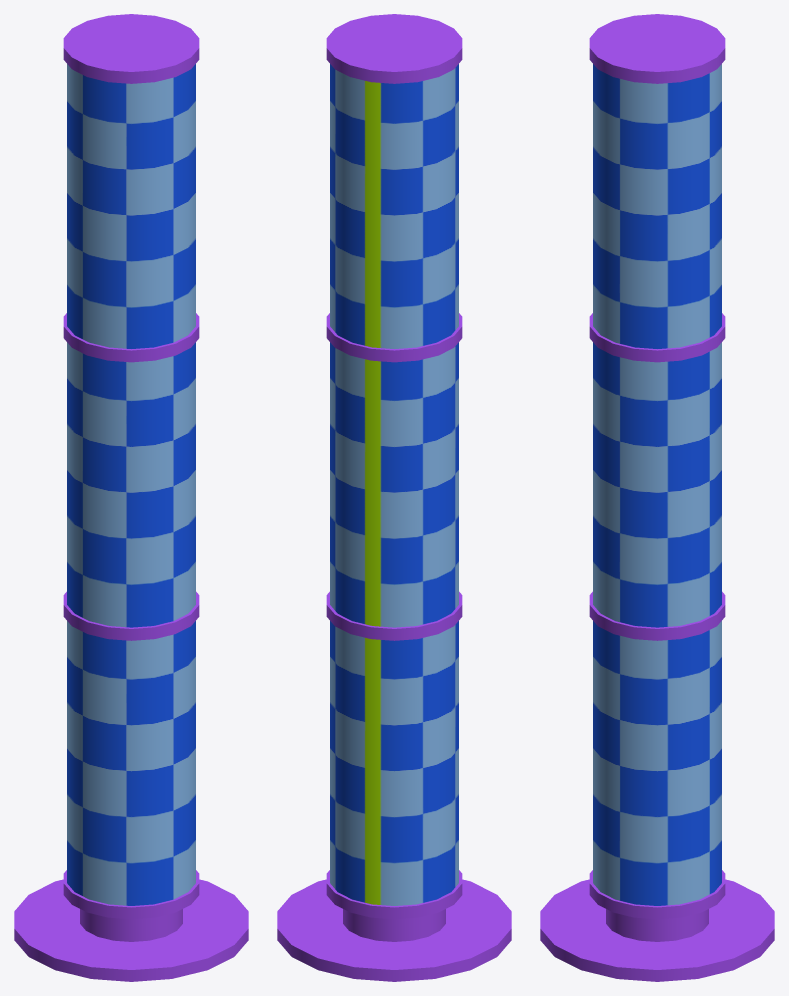
File: LightFloor01_1.FBX
The picture shows the model from 3 angles, left to right: view 1: azimuth 30°, elevation 25°; view 2: azimuth 150°, elevation 25°; view 3: azimuth 270°, elevation 25°; orthographic projection.
Parts seen in each view (by area): view 1: LightFloor01_1; view 2: LightFloor01_1; view 3: LightFloor01_1.
Part boxes in pixels (<box>): LightFloor01_1: <box>14,14,248,981</box>; LightFloor01_1: <box>277,14,511,981</box>; LightFloor01_1: <box>540,14,774,981</box>.
Size of the model in its own units: 36.35 by 150 by 35.8.
